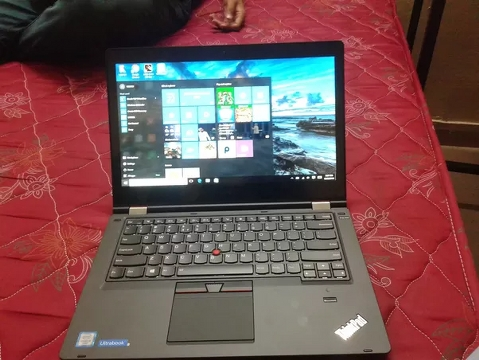pc: (59, 42, 392, 360)
